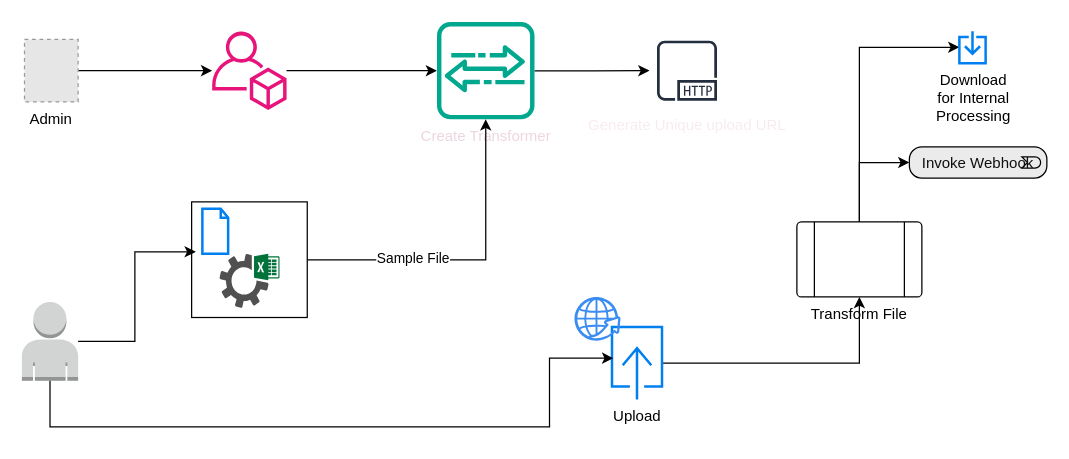
The diagram is 1069 pixels wide and 459 high, and some of its shapes have lost their labels. Grey dashed boxes stand in for pictures. The box of each missing label's shape, as (x1, y1, x2, y2) in pixels:
Create Account: (211, 31, 286, 109)
Pro: (190, 201, 307, 318)
User: (21, 301, 78, 381)
